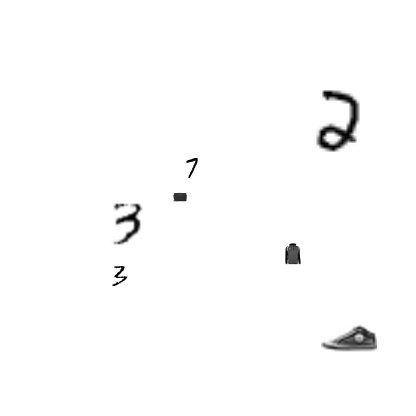1: (258, 328, 314, 384), (16, 383, 30, 397)
2: (252, 66, 308, 122), (341, 152, 369, 180)
4: (325, 180, 367, 222)
Coat: (40, 346, 82, 388)
Sandal: (115, 372, 143, 400)
Shirt: (15, 212, 29, 226)
